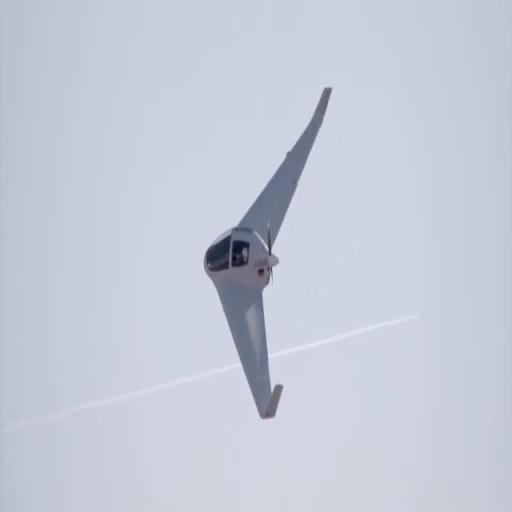uav: (196, 73, 338, 437)
